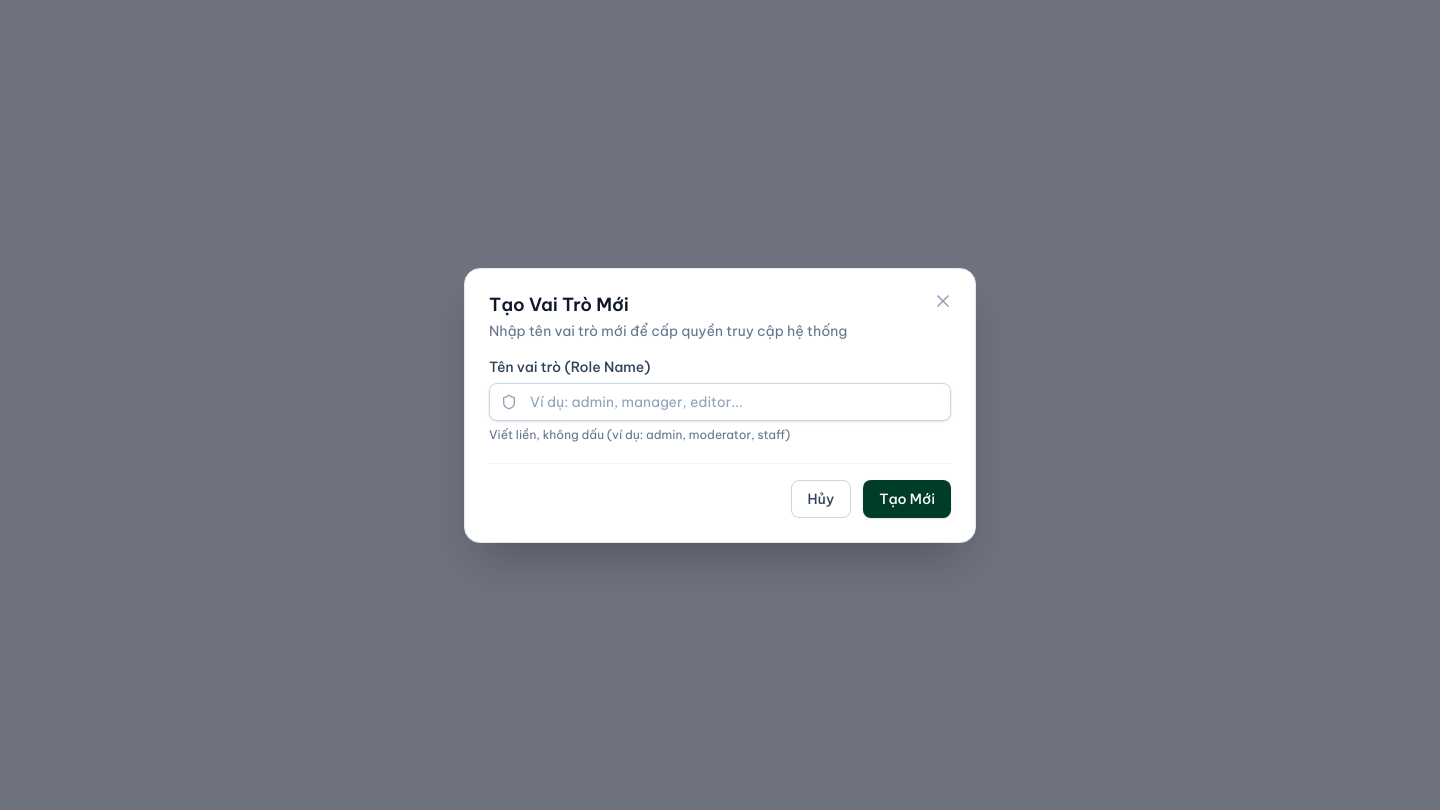
RoleFormModal › shows a validation error for names with invalid characters
In the field labelled "Tên vai trò (Role Name)": [720, 402] box 489,382 -> 951,420, type "admin role!"
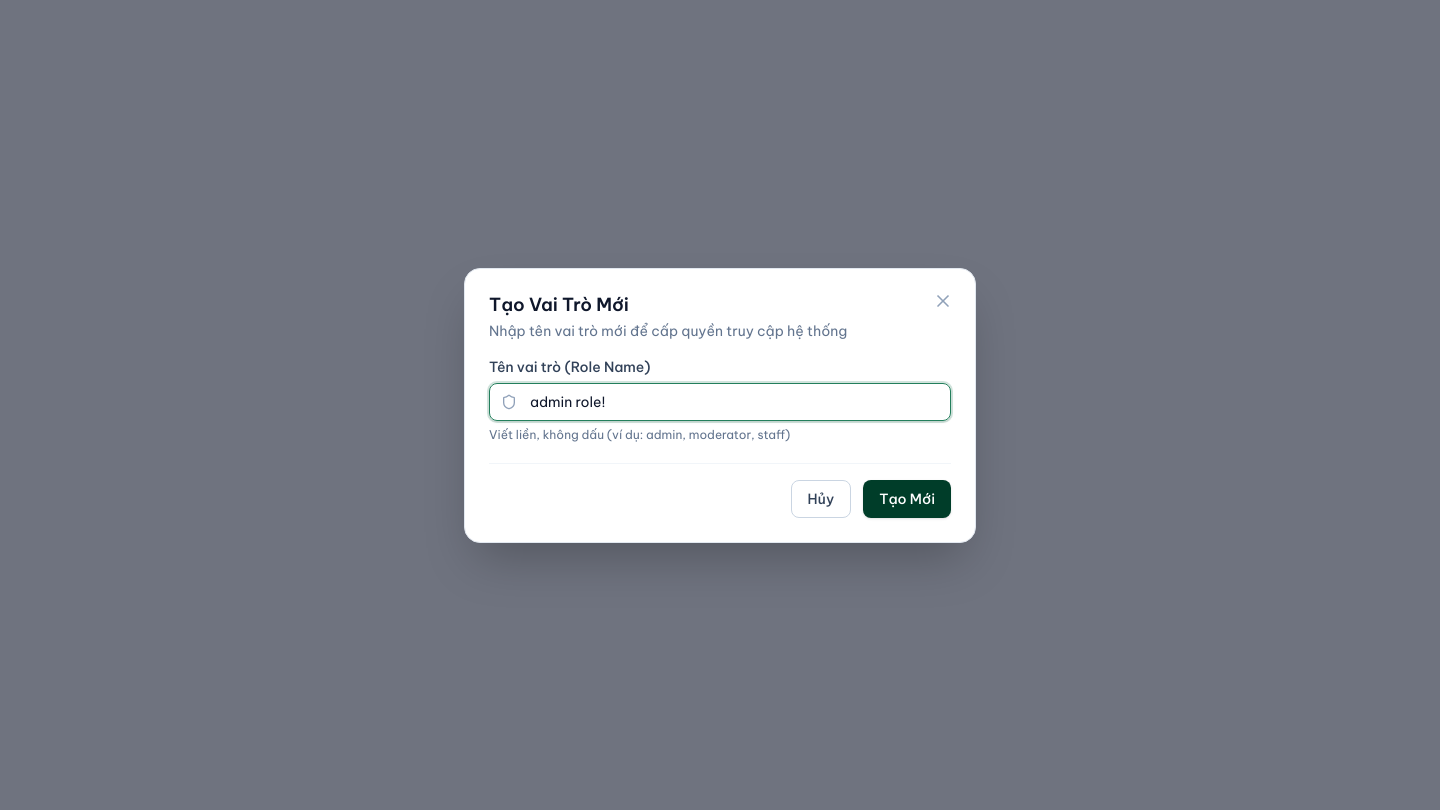
Click the button "Tạo Mới": [907, 498] box 863,480 -> 951,518
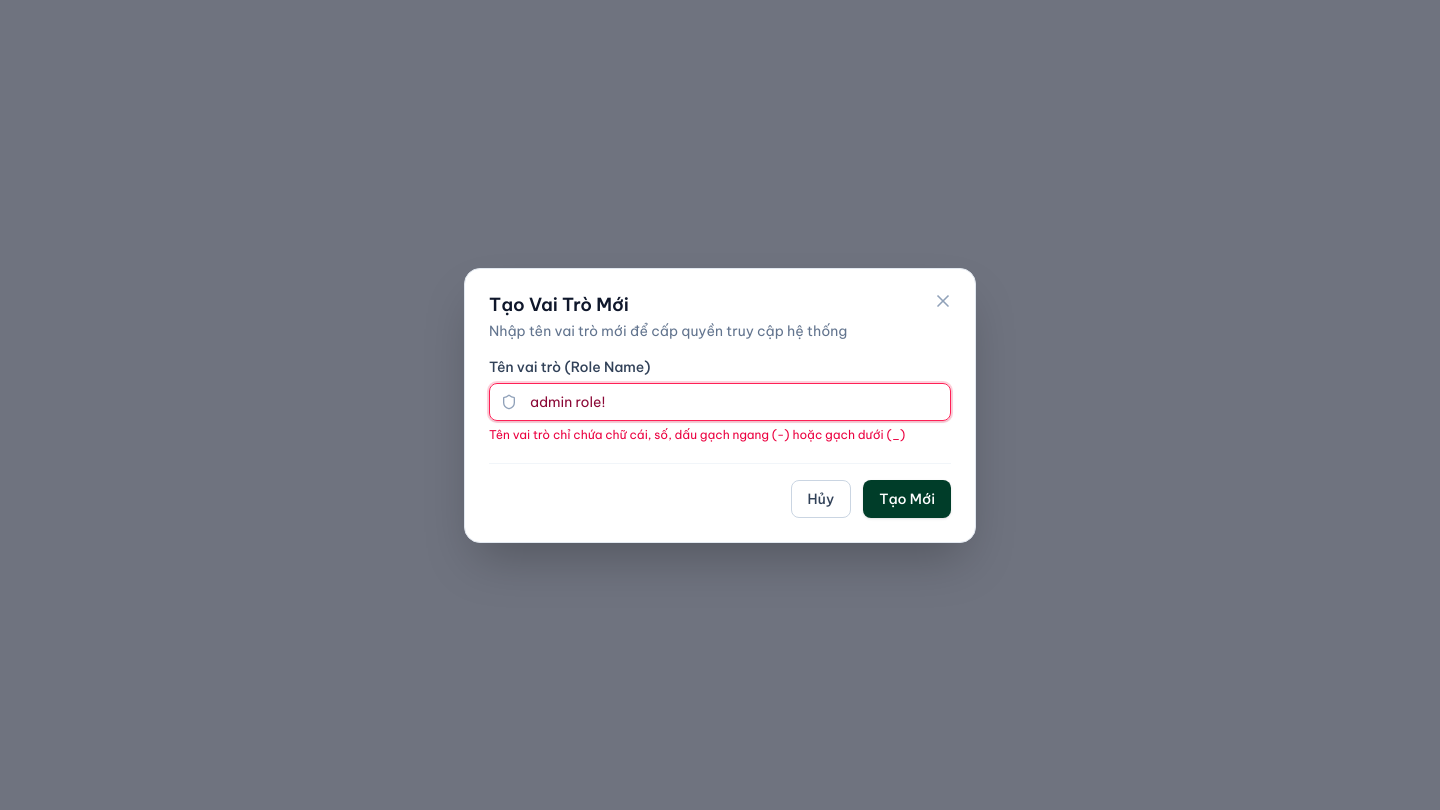
Now the text "Tên vai trò chỉ chứa chữ cái, số, dấu gạch ngang (-) hoặc gạch dưới (_)" is shown, box 489,426 -> 951,442
